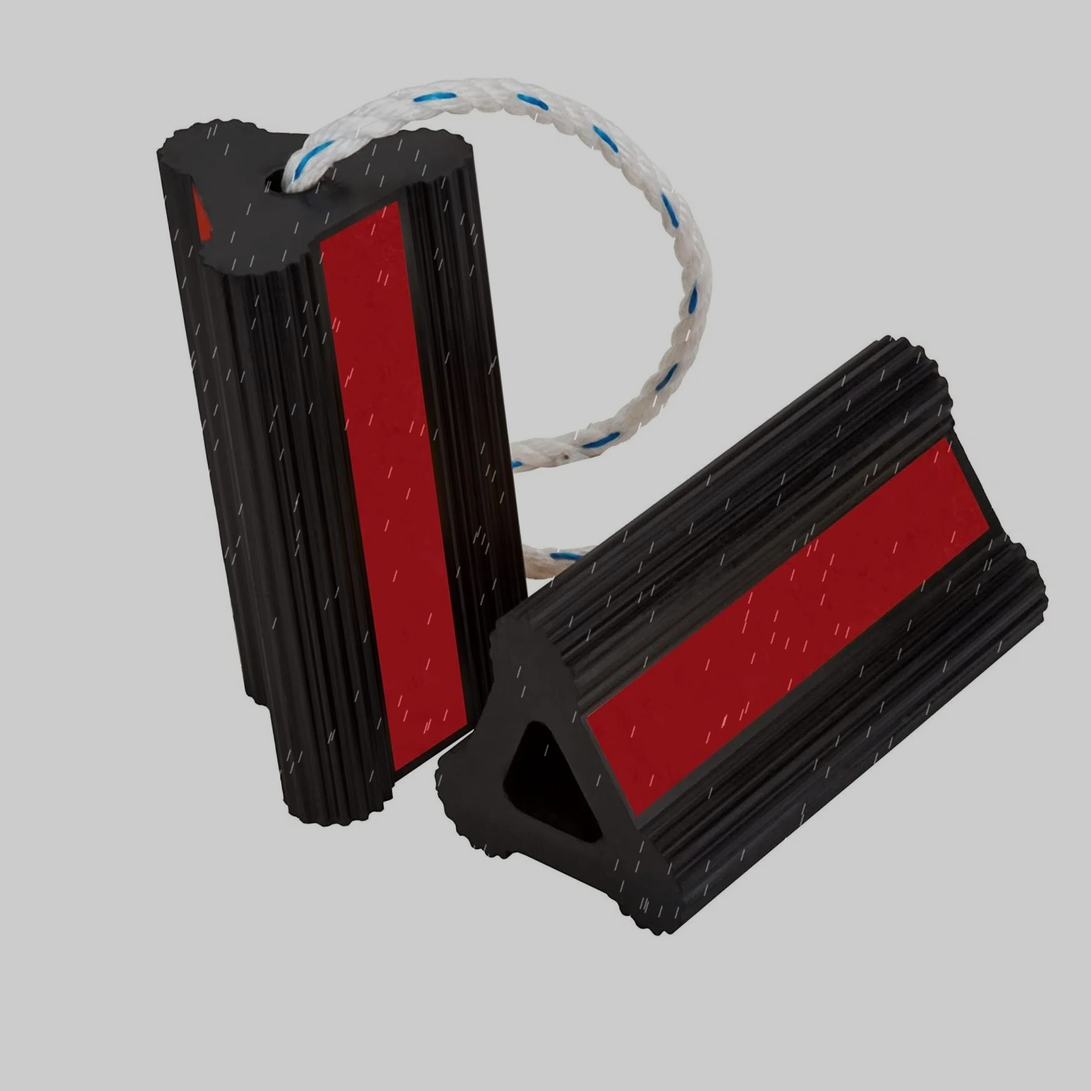chock: (389, 309, 1086, 966), (136, 79, 557, 841)
